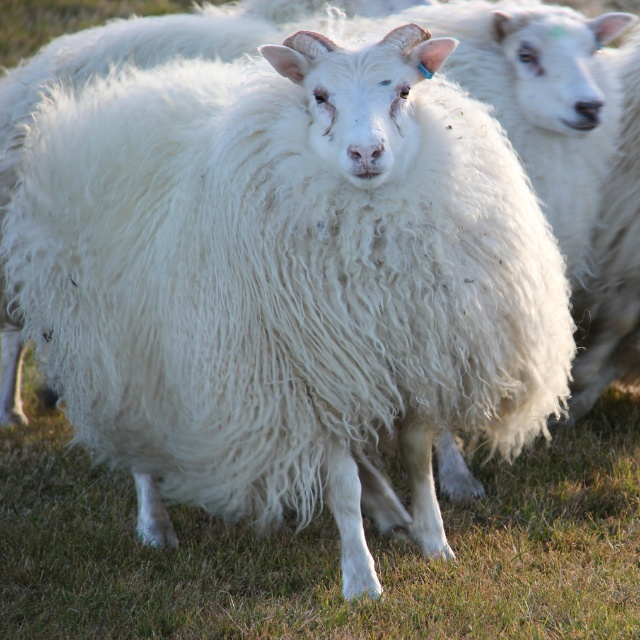Sheep: (0, 0, 590, 602)
